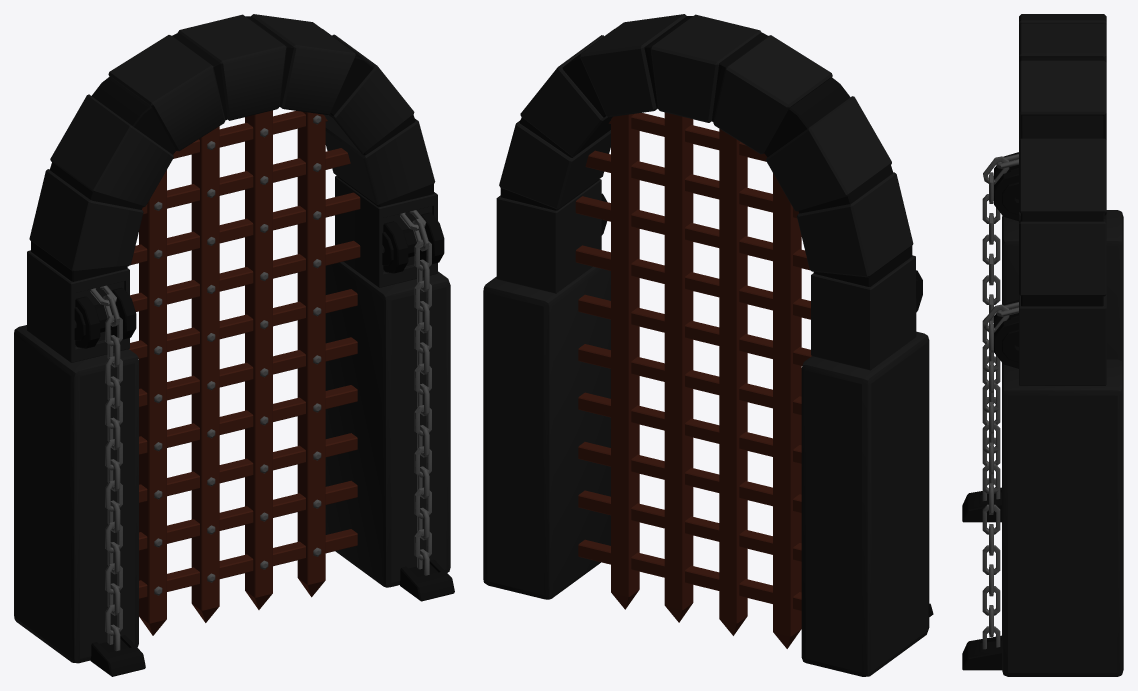
File: S_IronGate.fbx
3 renders of one model, left to right at view 1: azimuth 30°, elevation 25°; view 2: azimuth 150°, elevation 25°; view 3: azimuth 270°, elevation 25°, orthographic. The views are drawn at different scales.
Parts seen in each view (by area): view 1: Door2, Door2Gate; view 2: Door2, Door2Gate; view 3: Door2.
Boxes of the visible parts, x1=… form: Door2: x1=14, y1=14, x2=454, y2=676; Door2Gate: x1=129, y1=110, x2=360, y2=635; Door2: x1=483, y1=14, x2=933, y2=676; Door2Gate: x1=575, y1=112, x2=811, y2=648; Door2: x1=962, y1=14, x2=1123, y2=676.
Size of the model in its own units: 189 by 275 by 70.83.
